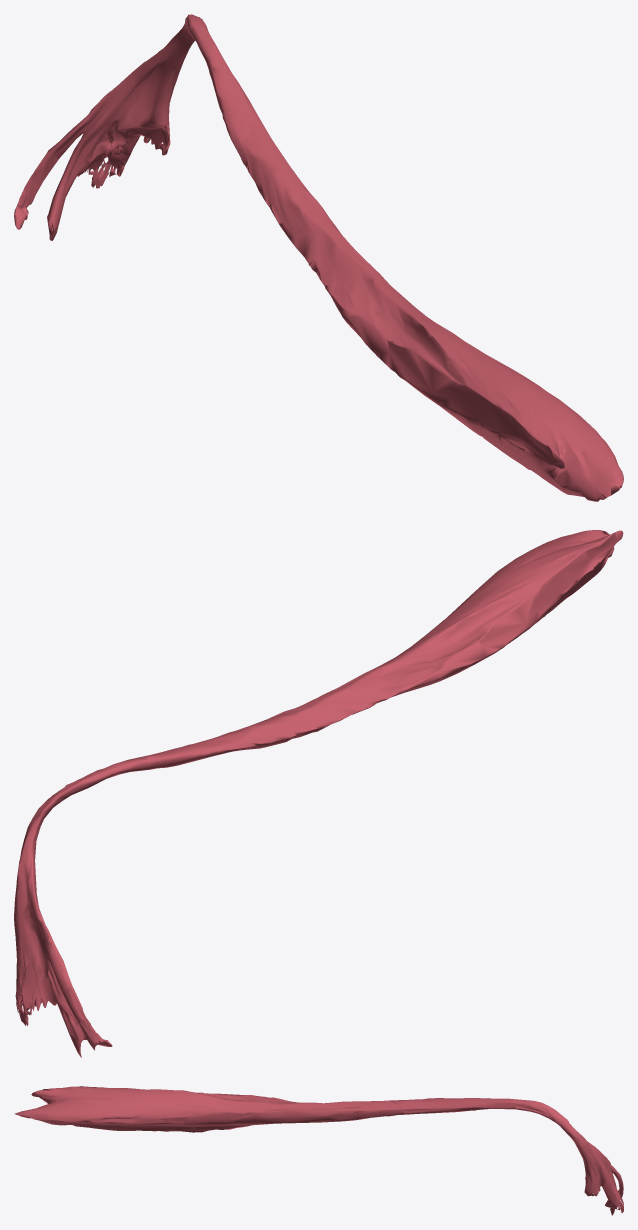
3 views of the same model, one above another, from view 1: azimuth 30°, elevation 25°; view 2: azimuth 150°, elevation 25°; view 3: azimuth 270°, elevation 25° (orthographic). The views are drawn at different scales.
Parts seen in each view (by area): view 1: 右侧胫骨后肌; view 2: 右侧胫骨后肌; view 3: 右侧胫骨后肌.
Boxes of the visible parts, x1=… form: 右侧胫骨后肌: x1=14, y1=14, x2=623, y2=501; 右侧胫骨后肌: x1=14, y1=530, x2=623, y2=1057; 右侧胫骨后肌: x1=14, y1=1086, x2=623, y2=1215.
Size of the model in its own units: 0.0868 by 0.1196 by 0.5065.
